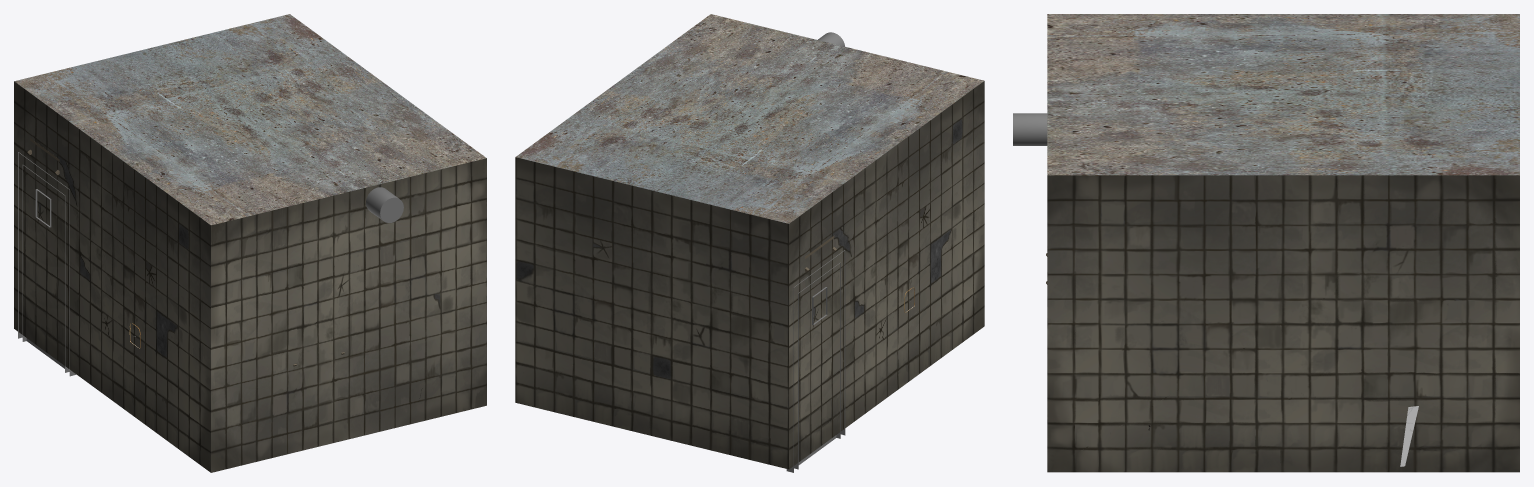
The model's file is room.fbx.
3 renders of one model, left to right at view 1: azimuth 30°, elevation 25°; view 2: azimuth 150°, elevation 25°; view 3: azimuth 270°, elevation 25°, orthographic. The views are drawn at different scales.
Visible parts, largest first — view 1: pCube1, pCube42, pCylinder10; view 2: pCube1, pCube42; view 3: pCube1, pCylinder10.
Part boxes in pixels (x1=…): pCube1: x1=14, y1=14, x2=486, y2=472; pCube42: x1=18, y1=152, x2=76, y2=376; pCylinder10: x1=366, y1=187, x2=403, y2=222; pCube1: x1=515, y1=14, x2=984, y2=469; pCube42: x1=786, y1=250, x2=845, y2=472; pCube1: x1=1047, y1=14, x2=1519, y2=472; pCylinder10: x1=1013, y1=113, x2=1047, y2=145.
Size of the model in its own units: 15.73 by 13.52 by 20.38.
